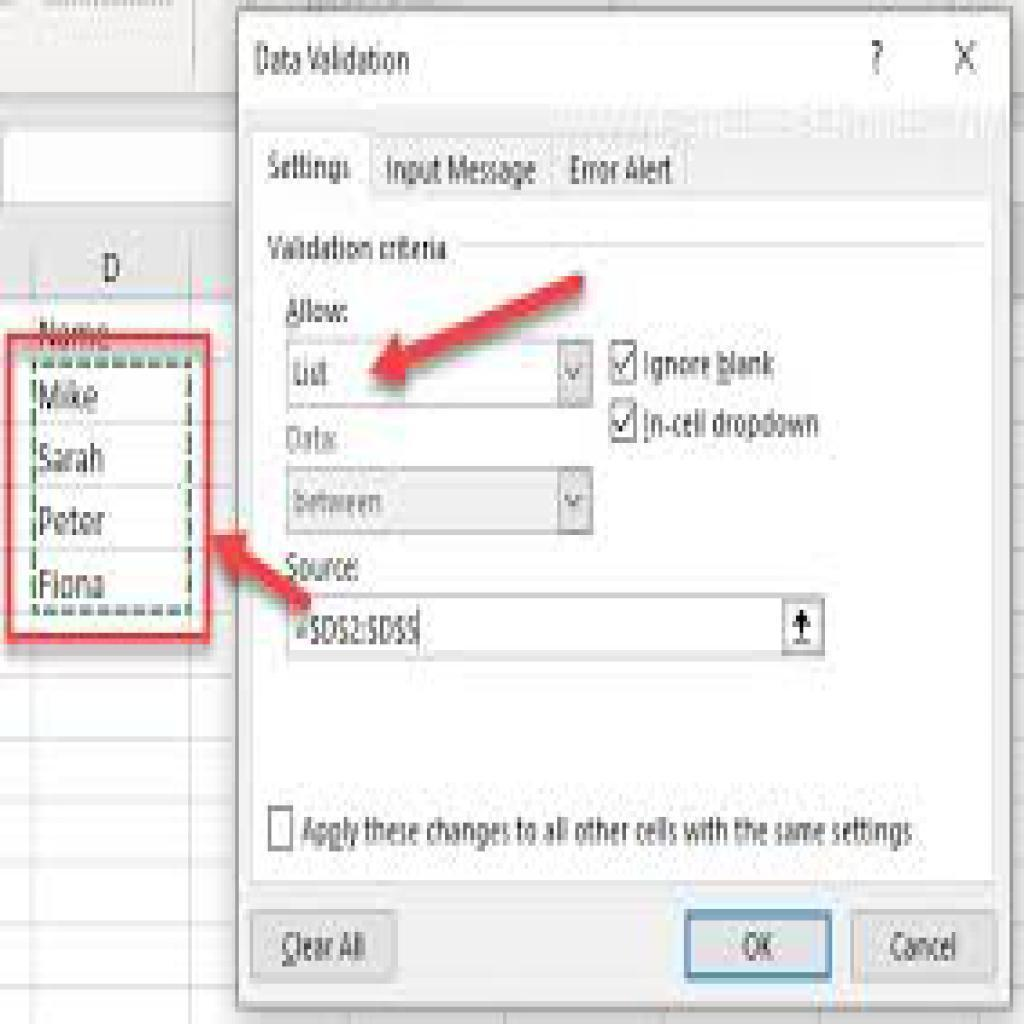button: (247, 906, 399, 984), (851, 911, 1002, 985), (685, 911, 831, 982)
checkbox: (608, 398, 641, 449), (265, 804, 298, 855), (609, 335, 638, 387)
dropdown: (286, 466, 596, 537), (284, 341, 597, 410)
icon: (947, 32, 986, 85), (867, 35, 891, 82)
input: (284, 596, 784, 656)
